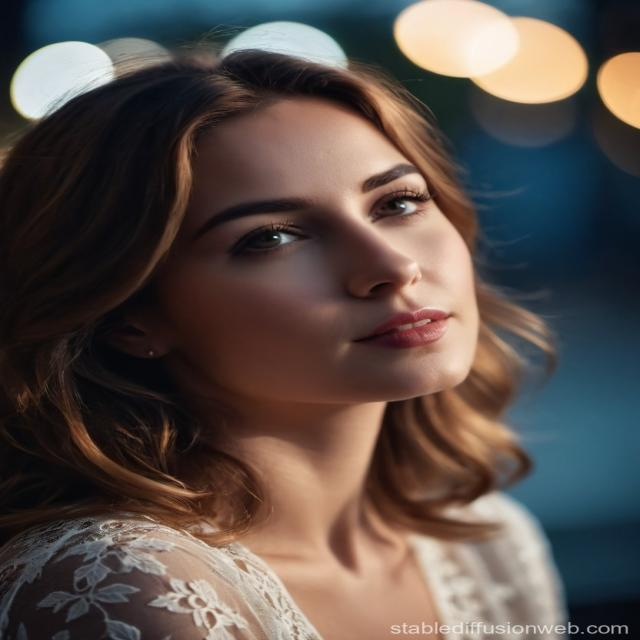front: (174, 165, 510, 391)
